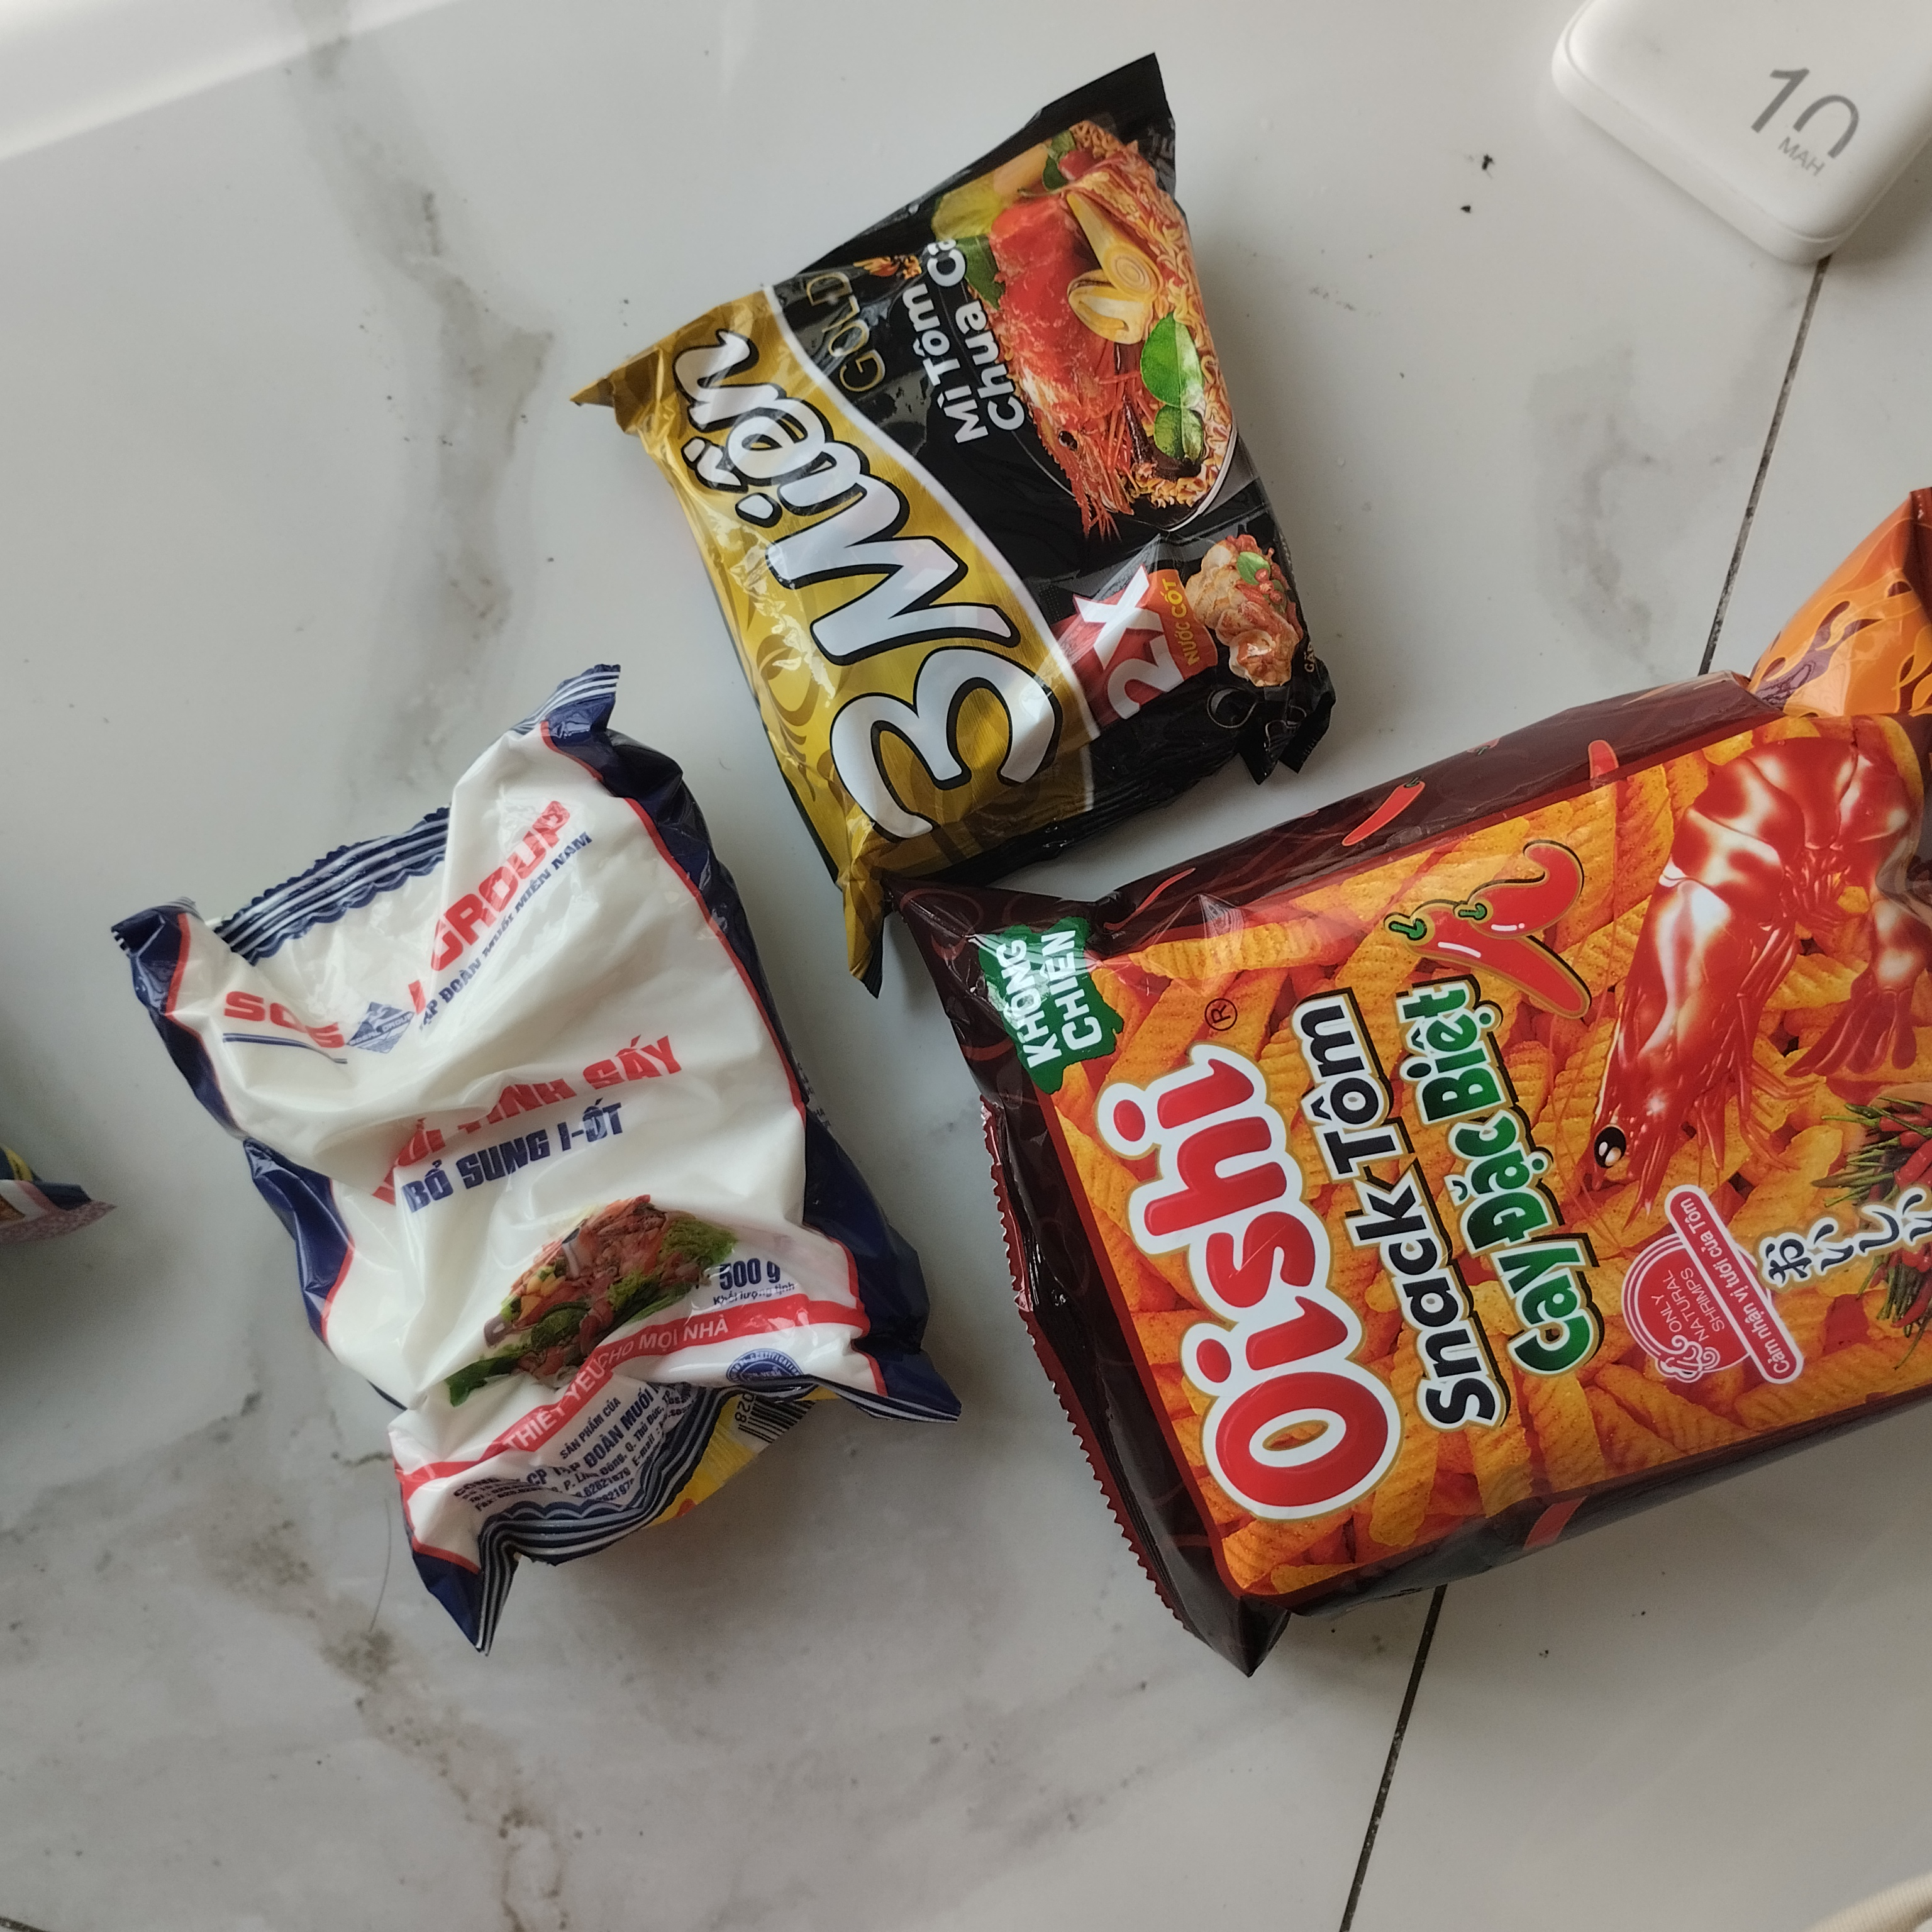3mien: (577, 46, 1338, 1007)
Oishi_Cay: (870, 487, 1932, 1675)
Salt: (101, 660, 978, 1670)
